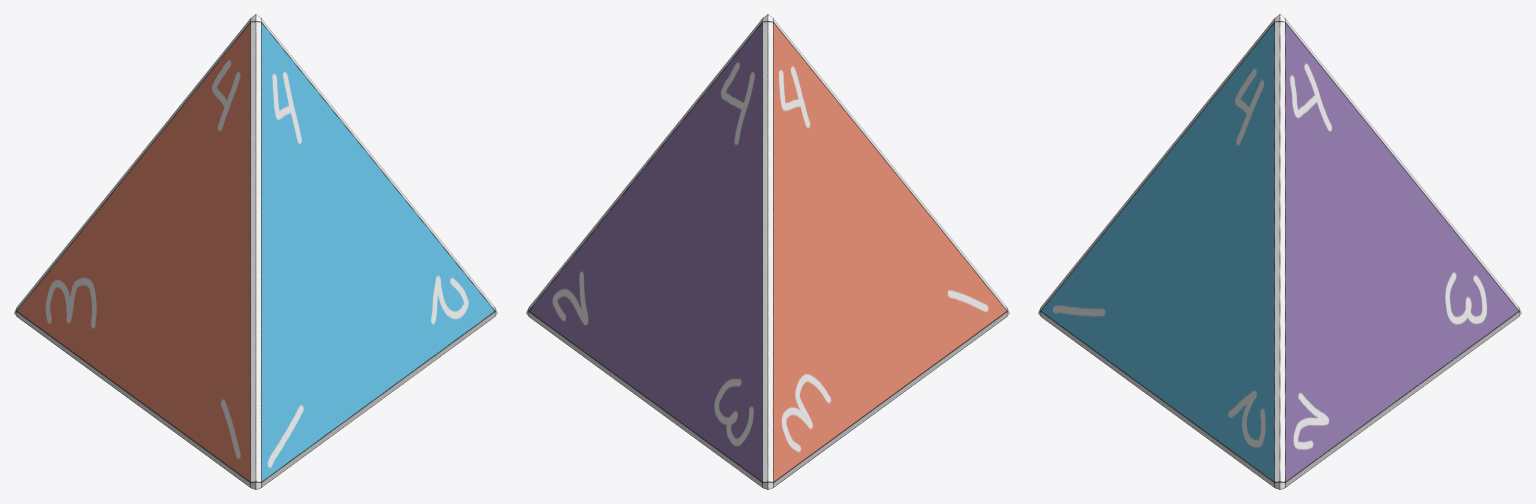
3 renders of one model, left to right at view 1: azimuth 30°, elevation 25°; view 2: azimuth 150°, elevation 25°; view 3: azimuth 270°, elevation 25°, orthographic.
Visible parts, largest first — view 1: Tetrahedron; view 2: Tetrahedron; view 3: Tetrahedron.
Part boxes in pixels (x1,y1,x2,y2): Tetrahedron: (14,14,497,489); Tetrahedron: (526,14,1009,489); Tetrahedron: (1038,14,1521,489).
Size of the model in its own units: 1.37 by 1.3 by 1.58.
Materials: 1 (1 with a texture image).
